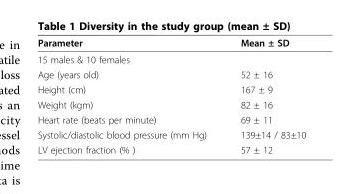table: (36, 36, 305, 155)
table column: (36, 36, 222, 155), (222, 36, 305, 155)
table column header: (36, 36, 305, 50)
table projected row header: (36, 50, 305, 66)
table row: (36, 50, 305, 66), (36, 66, 305, 81), (36, 81, 305, 96), (36, 96, 305, 111), (36, 111, 305, 126), (36, 126, 305, 141), (36, 36, 305, 50), (36, 141, 305, 155)
